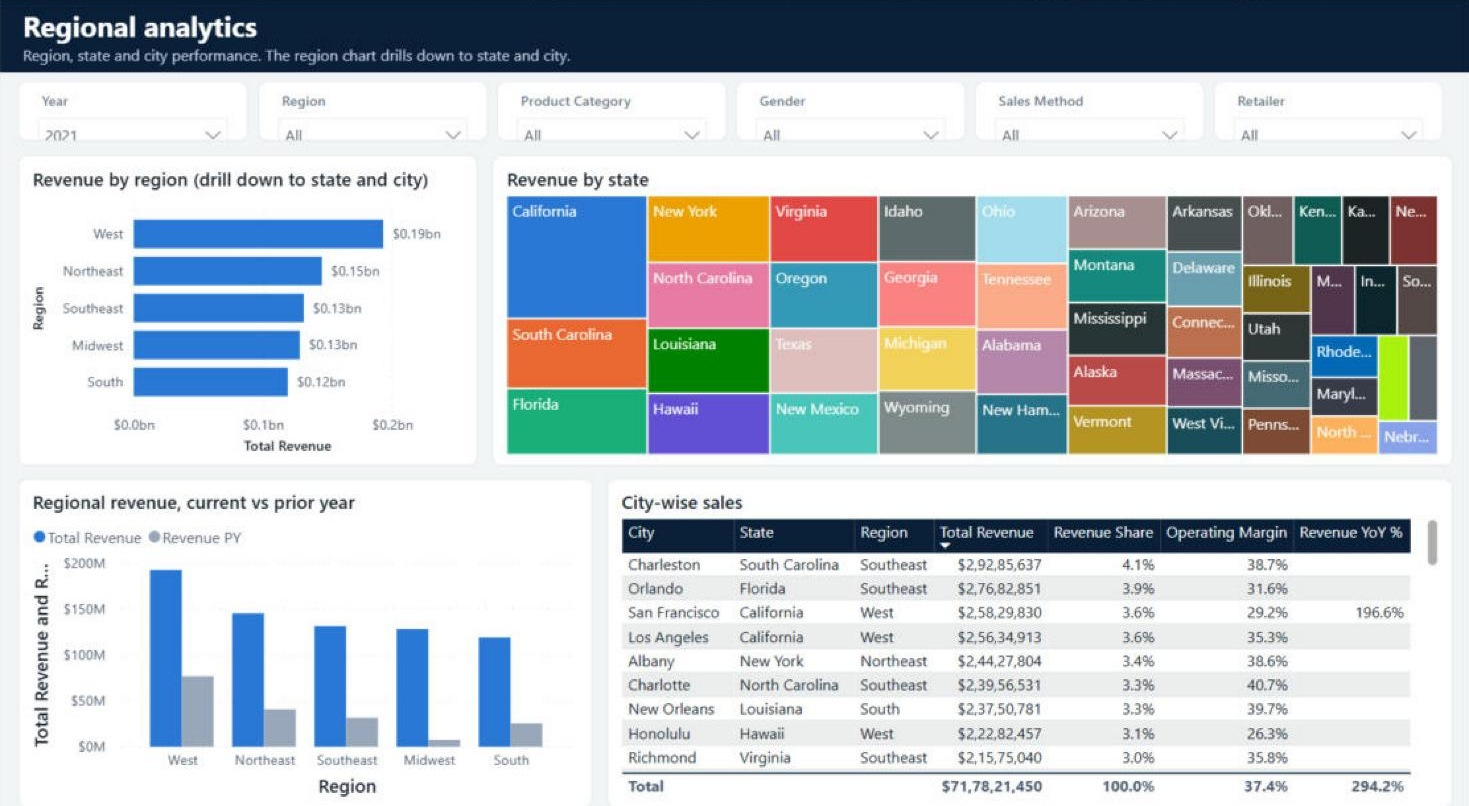

Layout of this report page (visuals, bound fields, positions):
{"tool":"powerbi","page":{"name":"Regional Analytics","canvas":[1280,720],"ordinal":3},"visuals":[{"type":"textbox","box":[0,0,1280,64],"z":1000},{"type":"slicer","fields":{"Values":["Calendar.Year"]},"box":[16,72,200,52],"z":2000},{"type":"slicer","fields":{"Values":["Geography.Region"]},"box":[224,72,200,52],"z":3000},{"type":"slicer","fields":{"Values":["Product.Product Category"]},"box":[432,72,200,52],"z":4000},{"type":"slicer","fields":{"Values":["Product.Gender"]},"box":[640,72,200,52],"z":5000},{"type":"slicer","fields":{"Values":["Sales Method.Sales Method"]},"box":[848,72,200,52],"z":6000},{"type":"slicer","fields":{"Values":["Retailer.Retailer"]},"box":[1056,72,200,52],"z":7000},{"type":"clusteredBarChart","title":"Revenue by region (drill down to state and city)","fields":{"Category":["Geography.Region","Geography.State","Geography.City"],"Y":["_Measures.Total Revenue"]},"box":[16,136,400,270],"z":8000},{"type":"treemap","title":"Revenue by state","fields":{"Group":["Geography.State"],"Values":["_Measures.Total Revenue"]},"box":[428,136,836,270],"z":9000},{"type":"clusteredColumnChart","title":"Regional revenue, current vs prior year","fields":{"Category":["Geography.Region"],"Y":["_Measures.Total Revenue","_Measures.Revenue PY"]},"box":[16,418,500,286],"z":10000},{"type":"tableEx","title":"City-wise sales","fields":{"Values":["Geography.City","Geography.State","Geography.Region","_Measures.Total Revenue","_Measures.Revenue Share","_Measures.Operating Margin","_Measures.Revenue YoY %"]},"box":[528,418,736,286],"z":11000}]}

Visuals, with their boxes in screenshot pixels (x1, y1, x2, y2), scaled from the page's 1280x720 canvas onto the 1469x806 screenshot:
textbox: select_region(0, 0, 1468, 72)
slicer - Calendar.Year: select_region(18, 81, 248, 139)
slicer - Geography.Region: select_region(257, 81, 487, 139)
slicer - Product.Product Category: select_region(496, 81, 725, 139)
slicer - Product.Gender: select_region(734, 81, 964, 139)
slicer - Sales Method.Sales Method: select_region(973, 81, 1203, 139)
slicer - Retailer.Retailer: select_region(1212, 81, 1441, 139)
"Revenue by region (drill down to state and city)" clusteredBarChart: select_region(18, 152, 477, 454)
"Revenue by state" treemap: select_region(491, 152, 1451, 454)
"Regional revenue, current vs prior year" clusteredColumnChart: select_region(18, 468, 592, 788)
"City-wise sales" tableEx: select_region(606, 468, 1451, 788)
